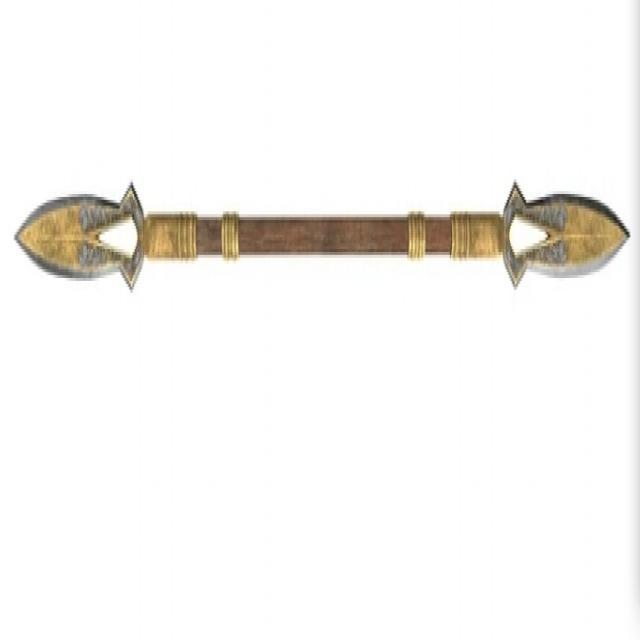spear: (11, 158, 628, 322)
